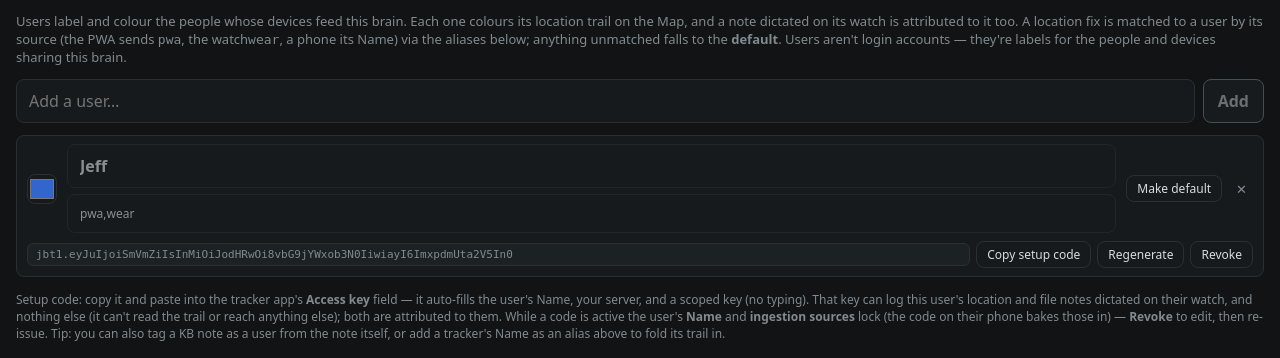
PeoplePage › revokes an active location key via DELETE, re-enabling name/alias edits
Expected: the field showing "Jeff" is disabled, 67,144 -> 1116,188
Click the button "Revoke".
click(1222, 254)  # box 1190,241 -> 1253,268
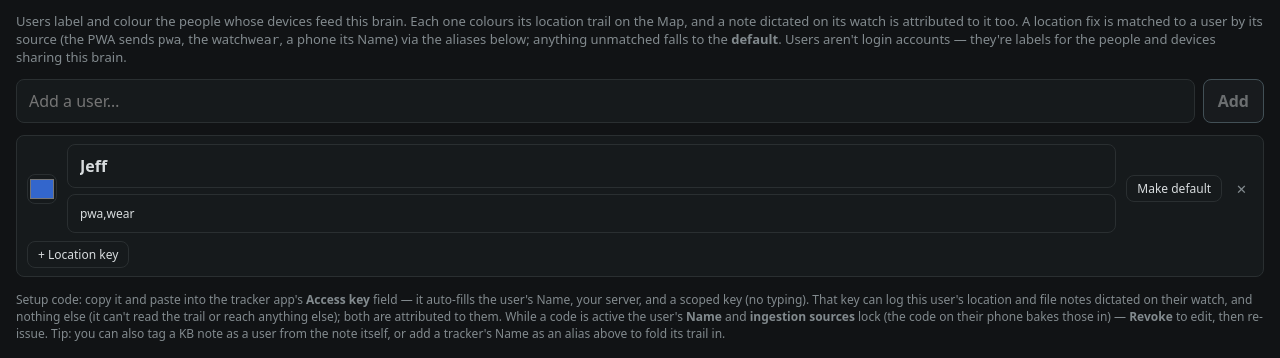
Now the 1st field showing "Jeff" is enabled, box 67,144 -> 1116,188
Now the button "+ Location key" is shown, box 27,241 -> 129,268
